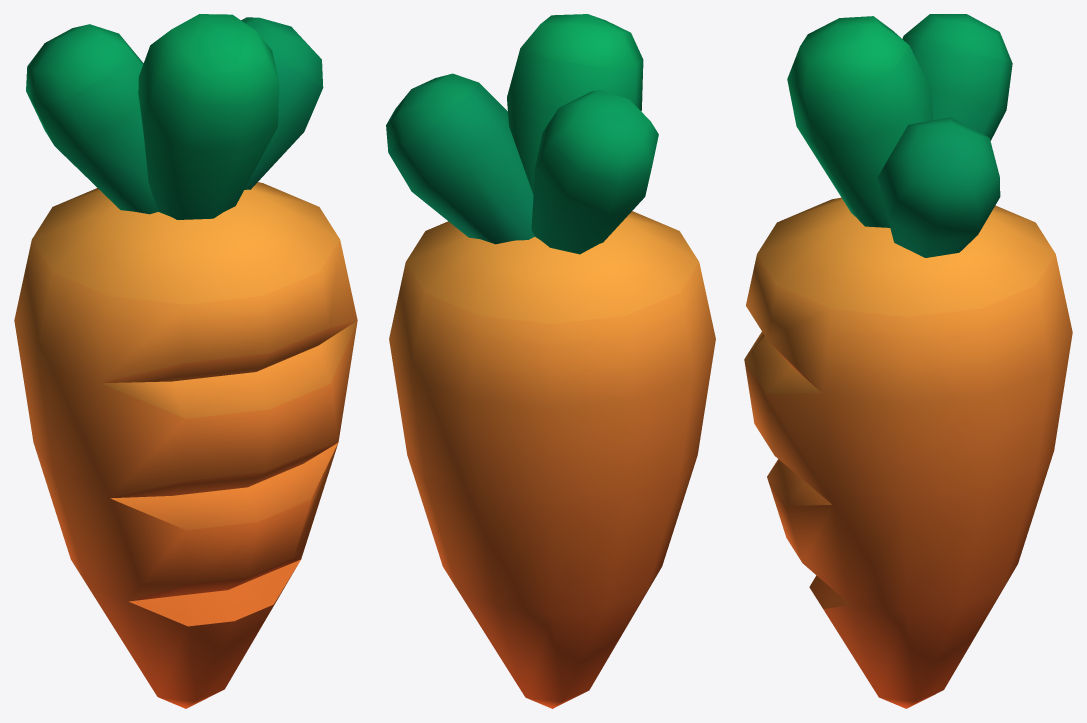
File: carrot.glb
3 views of the same model, side by side, from view 1: azimuth 30°, elevation 25°; view 2: azimuth 150°, elevation 25°; view 3: azimuth 270°, elevation 25° (orthographic). The views are drawn at different scales.
Visible parts, largest first — view 1: food_ingredient_carrot; view 2: food_ingredient_carrot; view 3: food_ingredient_carrot.
Part boxes in pixels (x1,y1,x2,y2): food_ingredient_carrot: [14, 14, 357, 708]; food_ingredient_carrot: [386, 14, 715, 708]; food_ingredient_carrot: [744, 14, 1072, 708].
Bounding box in the file's own units: 0.56 × 1.27 × 0.5529.
Materials: 1 (1 with a texture image).
